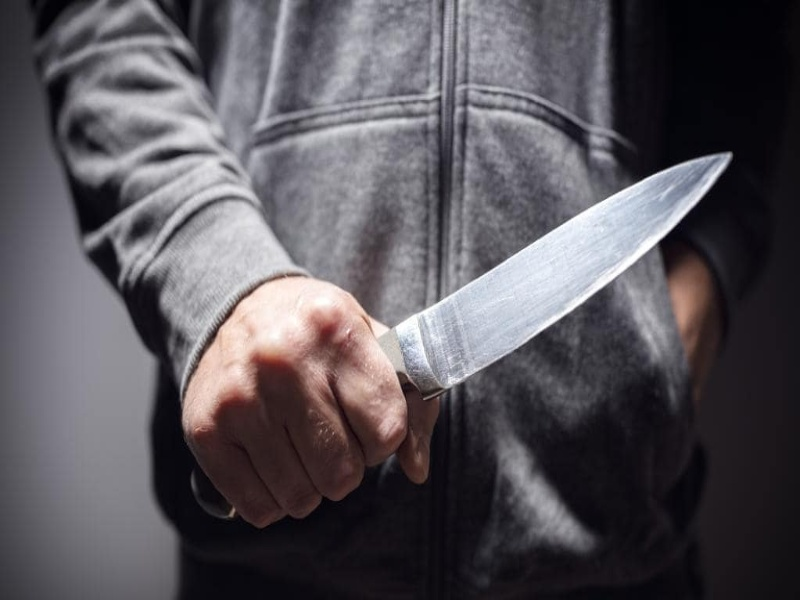hand: (178, 280, 438, 528)
knife: (384, 151, 735, 398)
